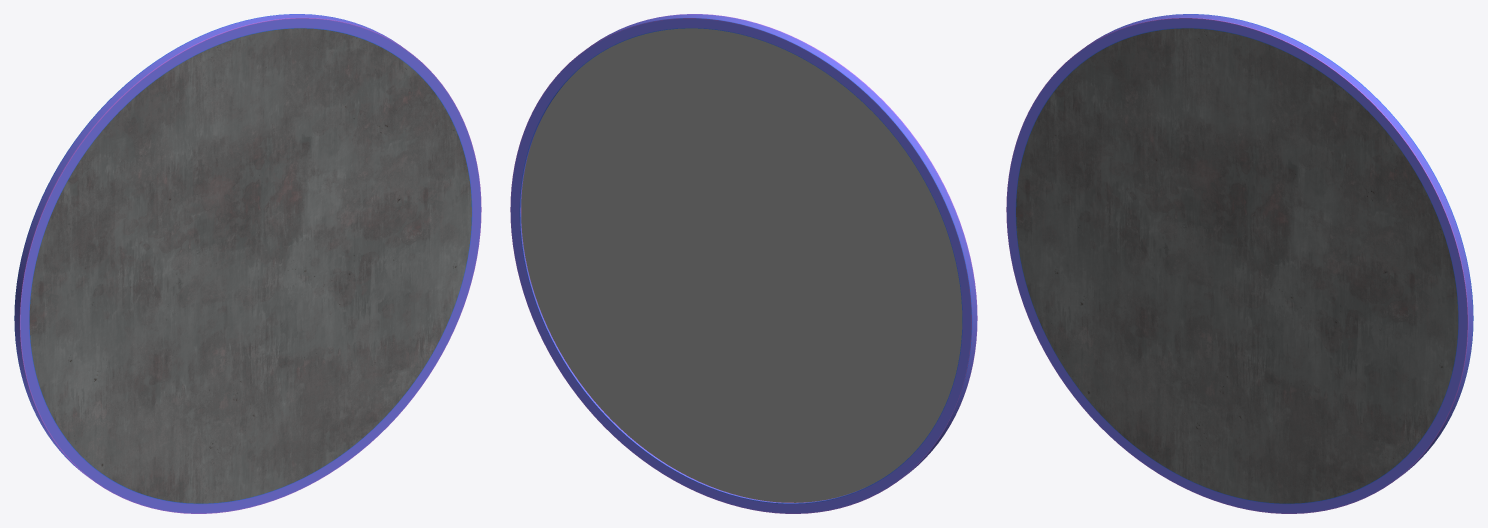
File: mr009mirror002s001.fbx
3 renders of one model, left to right at view 1: azimuth 30°, elevation 25°; view 2: azimuth 150°, elevation 25°; view 3: azimuth 330°, elevation 25°, orthographic.
Visible parts, largest first — view 1: mr009mirror002s001op01; view 2: mr009mirror002s001op02, mr009mirror002s001op01; view 3: mr009mirror002s001op01.
Part boxes in pixels (<box>): mr009mirror002s001op01: <box>14,14,481,513</box>; mr009mirror002s001op02: <box>521,28,962,502</box>; mr009mirror002s001op01: <box>510,14,977,513</box>; mr009mirror002s001op01: <box>1006,14,1473,513</box>.
Size of the model in its own units: 300 by 300 by 6.25.
